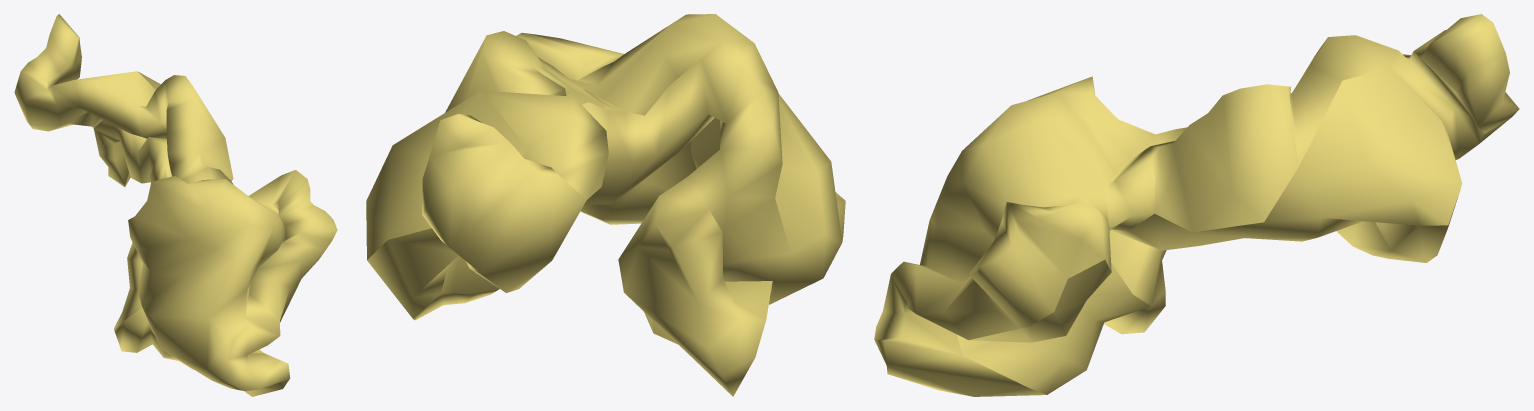
Rendered from inferior-frontal-sulcus-r.glb.
The picture shows the model from 3 angles, left to right: view 1: azimuth 30°, elevation 25°; view 2: azimuth 150°, elevation 25°; view 3: azimuth 270°, elevation 25°; orthographic projection. The views are drawn at different scales.
Visible parts, largest first — view 1: Inferior frontal sulcus.r; view 2: Inferior frontal sulcus.r; view 3: Inferior frontal sulcus.r.
Boxes of the visible parts, x1,y1,x2,y2 form: Inferior frontal sulcus.r: (14, 14, 337, 396); Inferior frontal sulcus.r: (366, 14, 845, 396); Inferior frontal sulcus.r: (874, 14, 1519, 396).
Bounding box in the file's own units: 0.0237 × 0.0322 × 0.0509.
